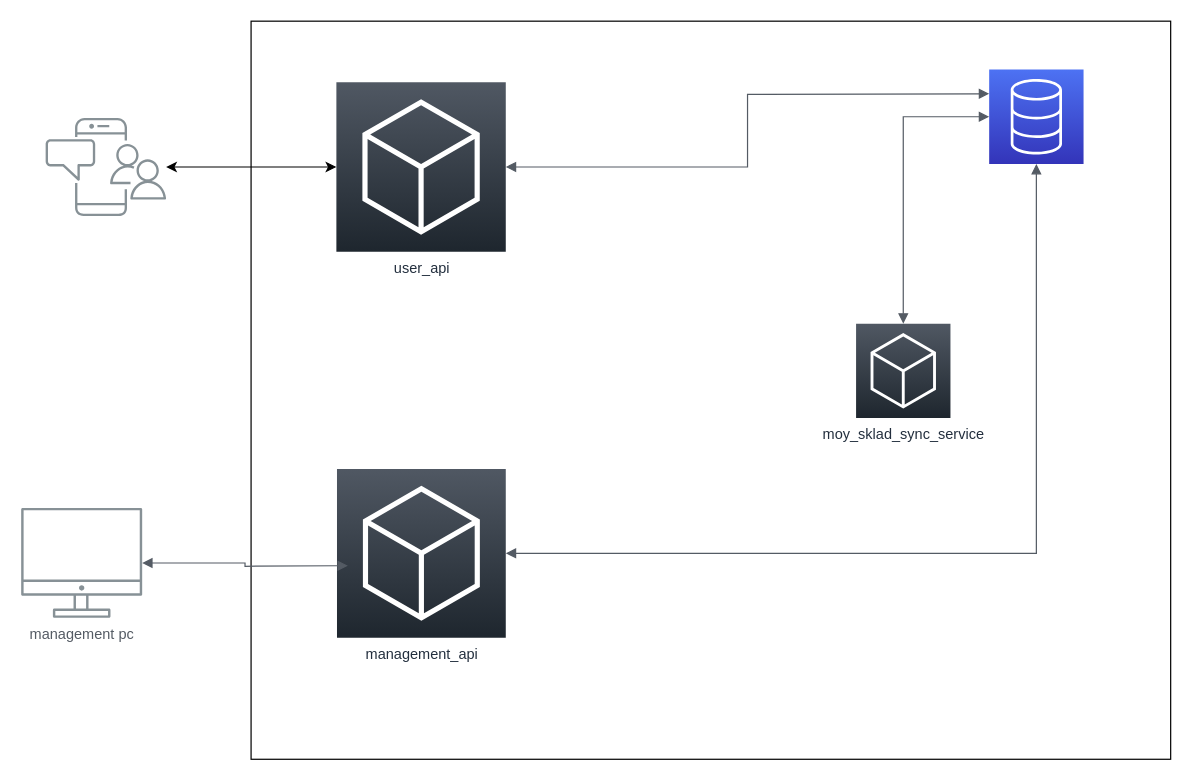
Image size: 1192x780. Some labels were removed from this diagram. The shapes that lost their labels are listed below. From the top down, each one's box as (x1, y1, x2, y2) in pixels, then its label:
(988, 68, 1084, 164): redshift database
(45, 117, 166, 215): user app
